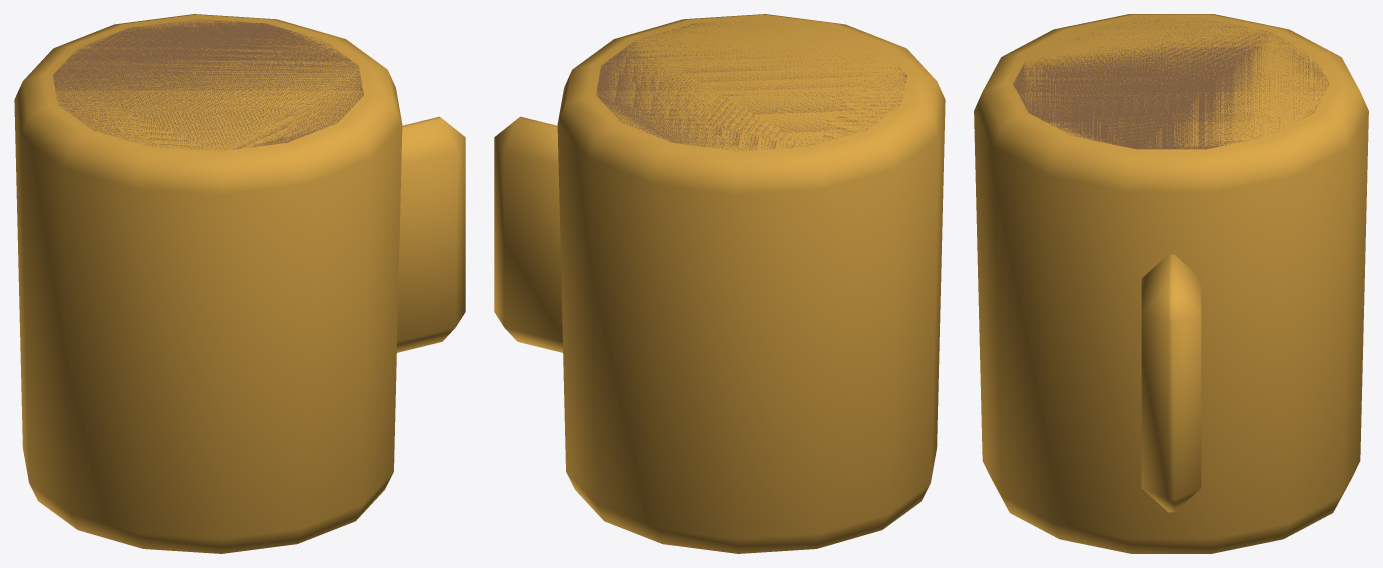
File: hand_cup.glb
The picture shows the model from 3 angles, left to right: view 1: azimuth 30°, elevation 25°; view 2: azimuth 150°, elevation 25°; view 3: azimuth 270°, elevation 25°; orthographic projection.
Parts seen in each view (by area): view 1: hand_cup; view 2: hand_cup; view 3: hand_cup.
Boxes of the visible parts, left/top/right/bottom form: hand_cup: left=14, top=14, right=465, bottom=553; hand_cup: left=494, top=14, right=945, bottom=553; hand_cup: left=974, top=14, right=1368, bottom=553.
Bounding box in the file's own units: 0.0989 × 0.09 × 0.0797.
Materials: 1 (1 with a texture image).
